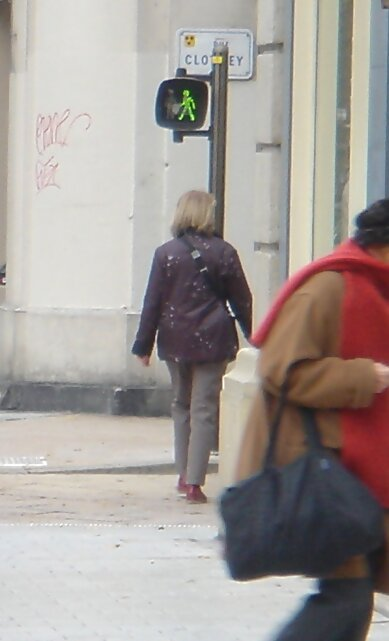person: (260, 193, 389, 641), (133, 190, 257, 505)
